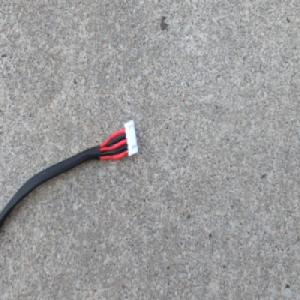Wire: (0, 117, 139, 240)
